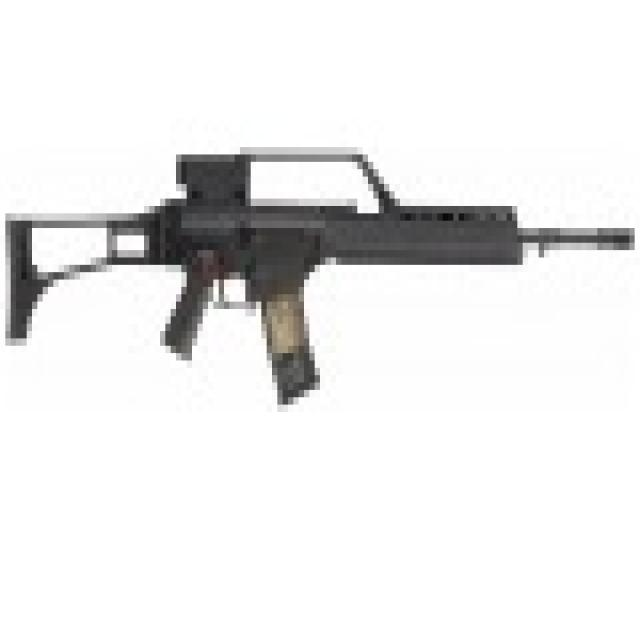Gun: (5, 96, 640, 390)
